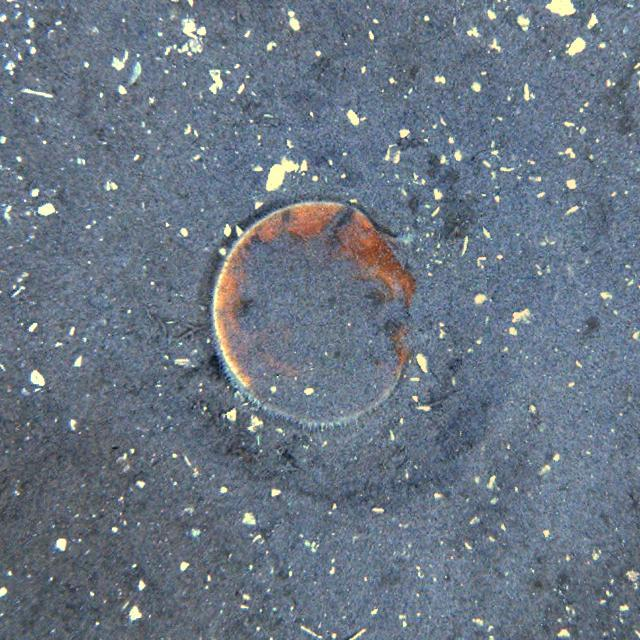scallop: (213, 200, 421, 428)
